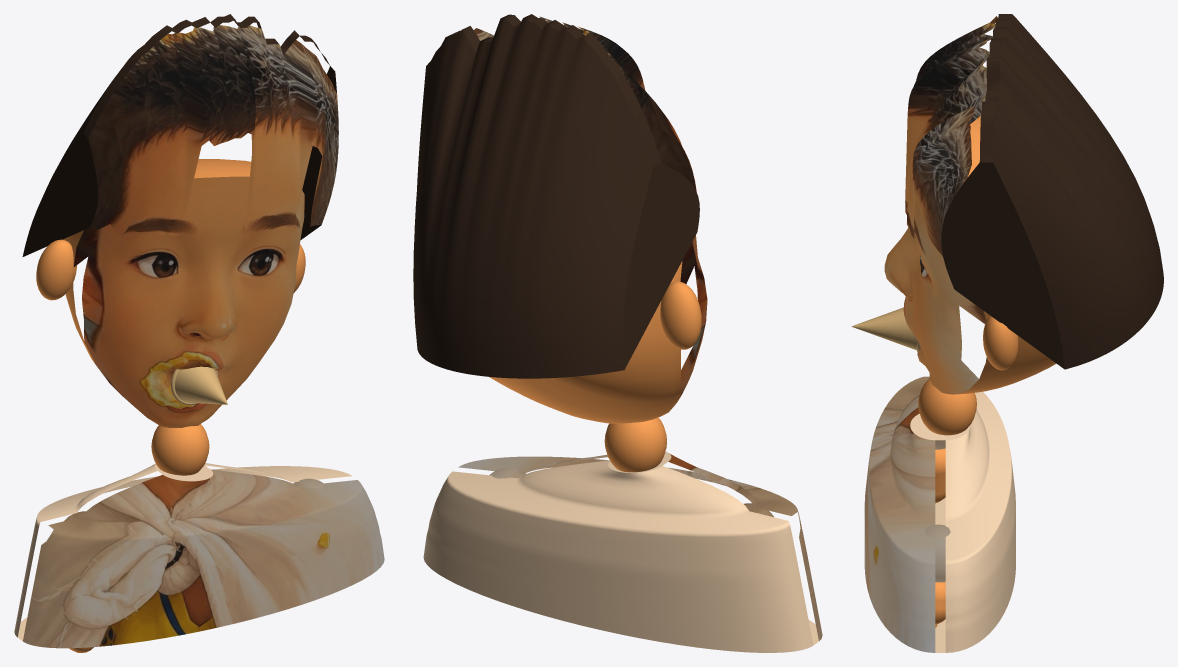
The model's file is portrait.glb.
The picture shows the model from 3 angles, left to right: view 1: azimuth 30°, elevation 25°; view 2: azimuth 150°, elevation 25°; view 3: azimuth 270°, elevation 25°; orthographic projection. The views are drawn at different scales.
Visible parts, largest first — view 1: figure-surface-5, figure-surface-1, figure-surface-8, figure-surface-6, figure-surface-2, figure-surface-0, figure-surface-9; view 2: figure-surface-7, figure-surface-2, figure-surface-6, figure-surface-8, figure-surface-5, figure-surface-1, figure-surface-0; view 3: figure-surface-7, figure-surface-5, figure-surface-1, figure-surface-8, figure-surface-2, figure-surface-6, figure-surface-0, figure-surface-9, figure-surface-4, figure-surface-3.
Part boxes in pixels (left/top/right/bottom): figure-surface-5: left=74, top=25, right=338, bottom=427; figure-surface-1: left=23, top=469, right=384, bottom=648; figure-surface-8: left=22, top=14, right=336, bottom=256; figure-surface-6: left=36, top=159, right=305, bottom=363; figure-surface-2: left=14, top=463, right=351, bottom=637; figure-surface-0: left=69, top=424, right=209, bottom=652; figure-surface-9: left=170, top=366, right=227, bottom=405; figure-surface-7: left=413, top=18, right=652, bottom=378; figure-surface-2: left=423, top=460, right=813, bottom=652; figure-surface-6: left=489, top=261, right=701, bottom=423; figure-surface-8: left=451, top=14, right=699, bottom=369; figure-surface-5: left=473, top=16, right=707, bottom=394; figure-surface-1: left=458, top=453, right=822, bottom=640; figure-surface-0: left=604, top=417, right=666, bottom=472; figure-surface-7: left=993, top=14, right=1163, bottom=369; figure-surface-5: left=884, top=16, right=998, bottom=394; figure-surface-1: left=864, top=376, right=950, bottom=652; figure-surface-8: left=941, top=14, right=1064, bottom=369; figure-surface-2: left=945, top=391, right=1015, bottom=652; figure-surface-6: left=953, top=116, right=1056, bottom=394; figure-surface-0: left=918, top=378, right=976, bottom=627; figure-surface-9: left=851, top=307, right=920, bottom=352; figure-surface-4: left=935, top=497, right=945, bottom=652; figure-surface-3: left=910, top=413, right=970, bottom=440.
Size of the model in its own units: 1.99 by 2.98 by 1.48.
Materials: 10 (2 with a texture image).
